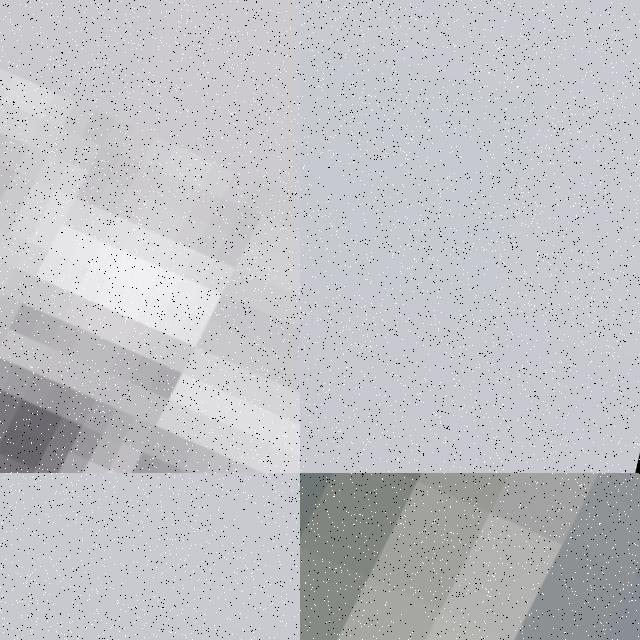0: (0, 0, 300, 473)
drone: (300, 473, 640, 640)
